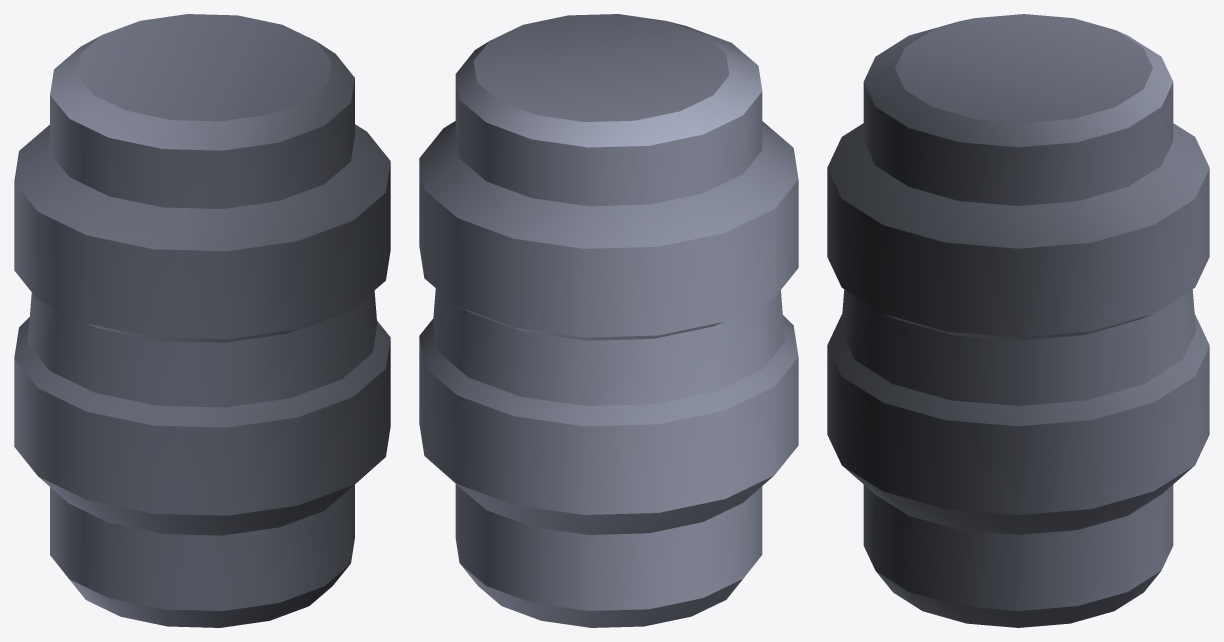
File: SpacePart_Cylinder_001.fbx
3 renders of one model, left to right at view 1: azimuth 30°, elevation 25°; view 2: azimuth 150°, elevation 25°; view 3: azimuth 270°, elevation 25°, orthographic.
Visible parts, largest first — view 1: Cylinder.001; view 2: Cylinder.001; view 3: Cylinder.001.
Boxes of the visible parts, x1,y1,x2,y2 form: Cylinder.001: (14,14,390,627); Cylinder.001: (419,14,798,627); Cylinder.001: (827,14,1209,627).
Bounding box in the file's own units: 2749 × 3999 × 2749.
